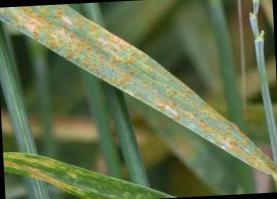Wheat: (44, 12, 137, 96)
